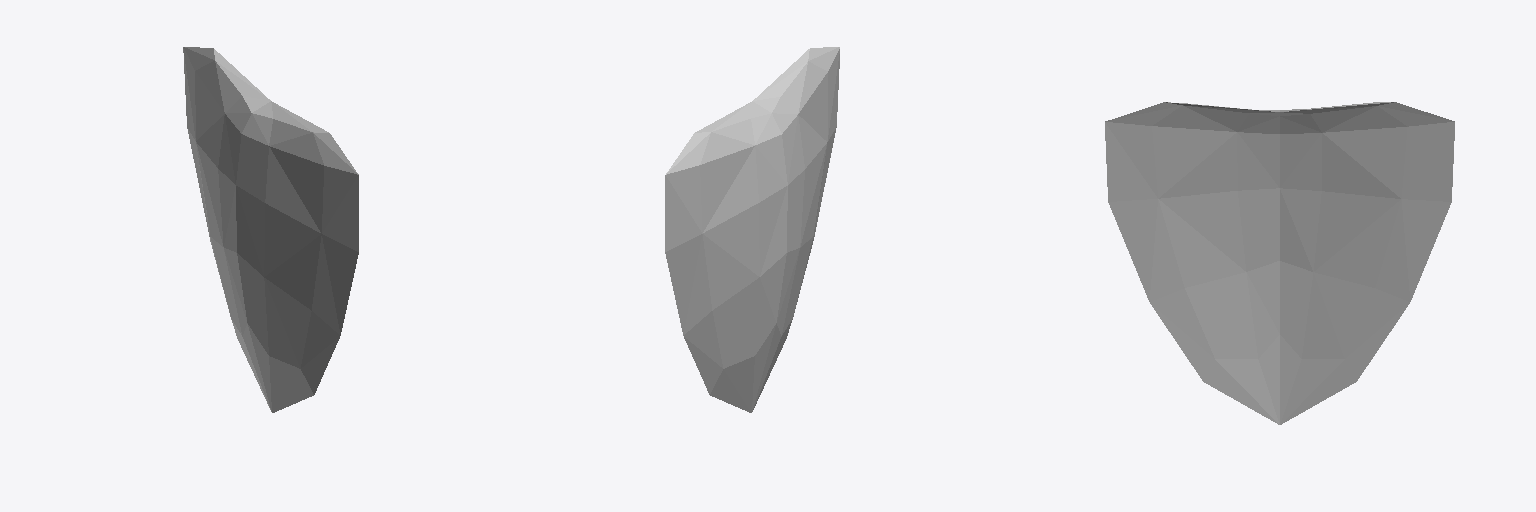
The model's file is blankBasicShield.obj.
The picture shows the model from 3 angles: view 1: azimuth 30°, elevation 25°; view 2: azimuth 150°, elevation 25°; view 3: azimuth 270°, elevation 25°; orthographic projection.
Visible parts, largest first — view 1: Cylinder; view 2: Cylinder; view 3: Cylinder.
Boxes of the visible parts, x1=… form: Cylinder: x1=183, y1=47, x2=358, y2=412; Cylinder: x1=665, y1=47, x2=839, y2=412; Cylinder: x1=1105, y1=102, x2=1454, y2=424.
Size of the model in its own units: 0.0743 by 0.5742 by 0.5647.